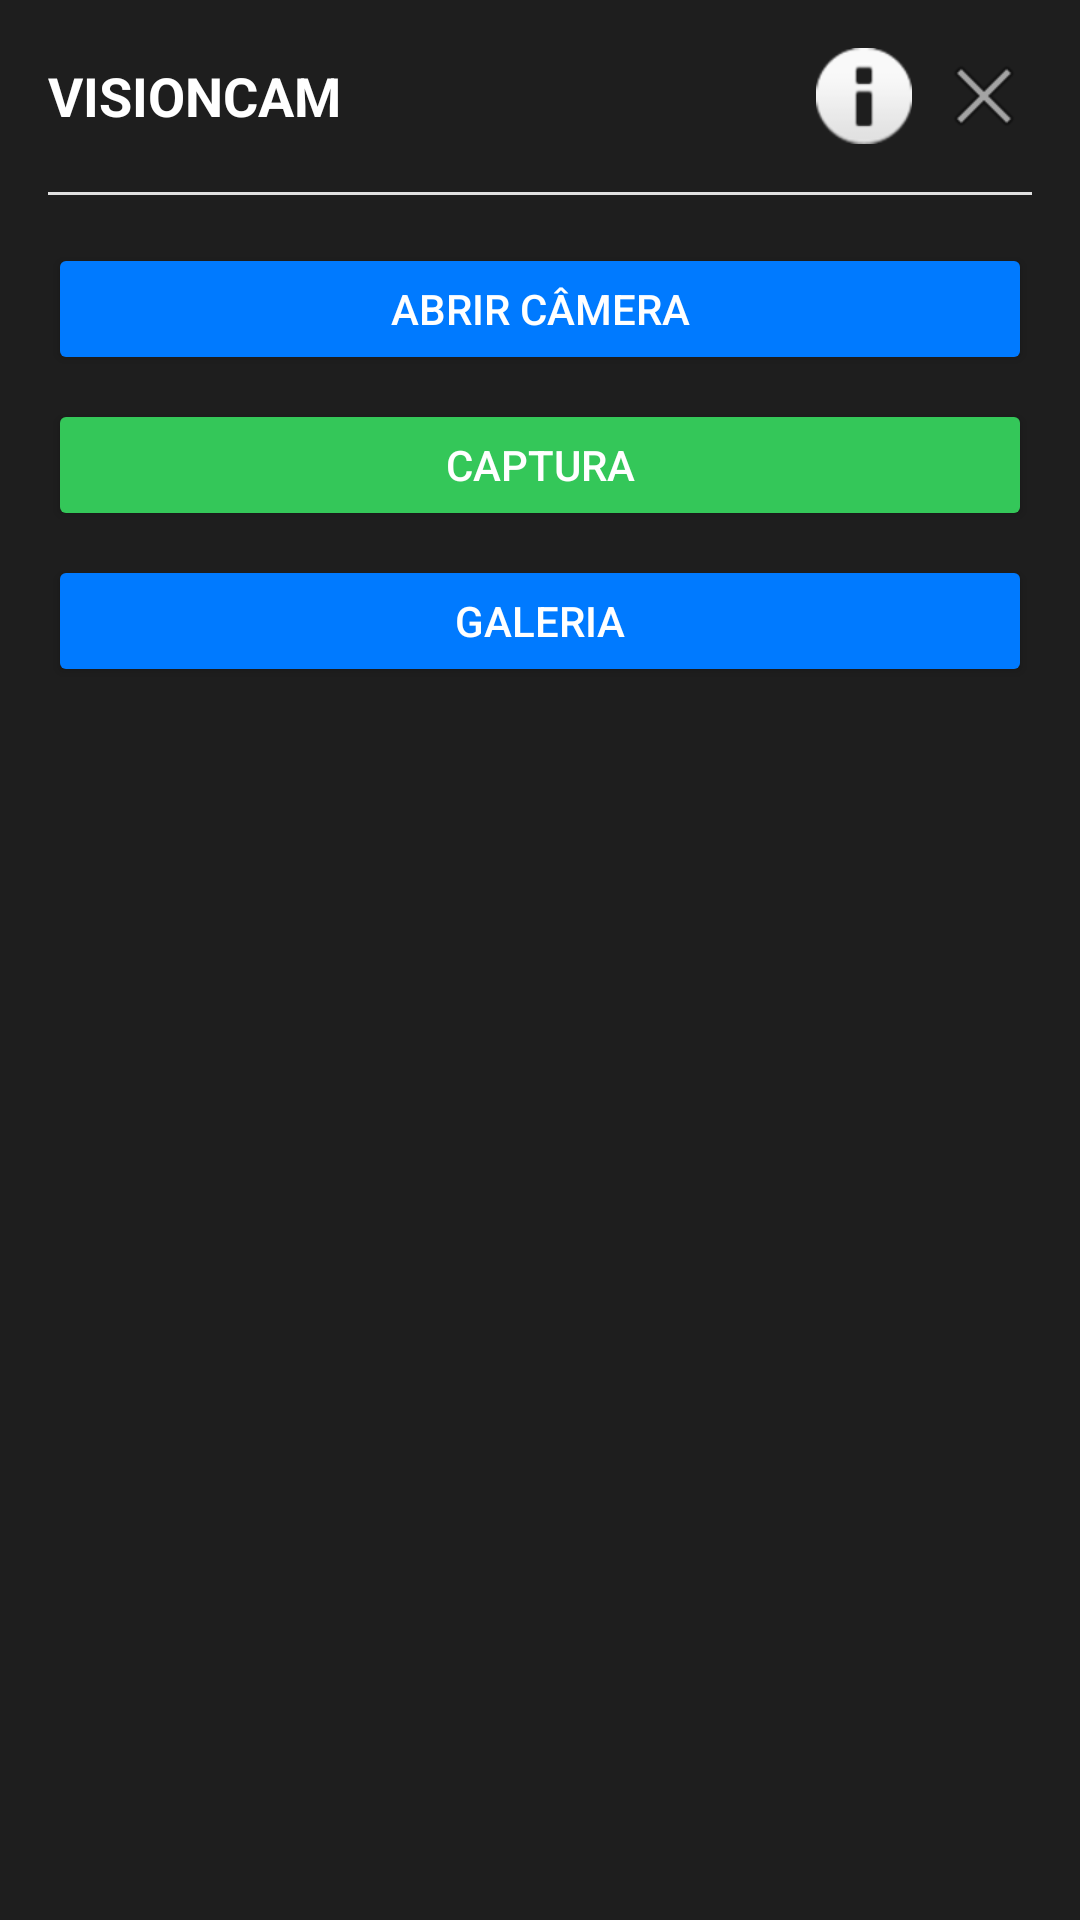

Icon click points for this 1080 x 1920 phone screenshot, format point (x, y):
Sair: point (984, 96)
